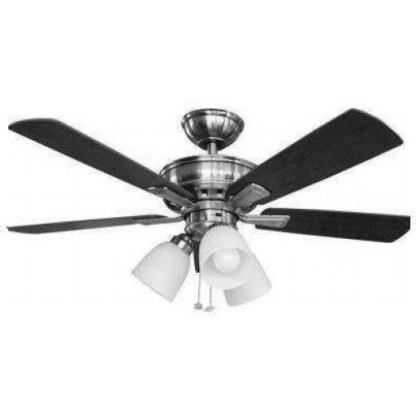ceiling-fan: (8, 108, 411, 310)
